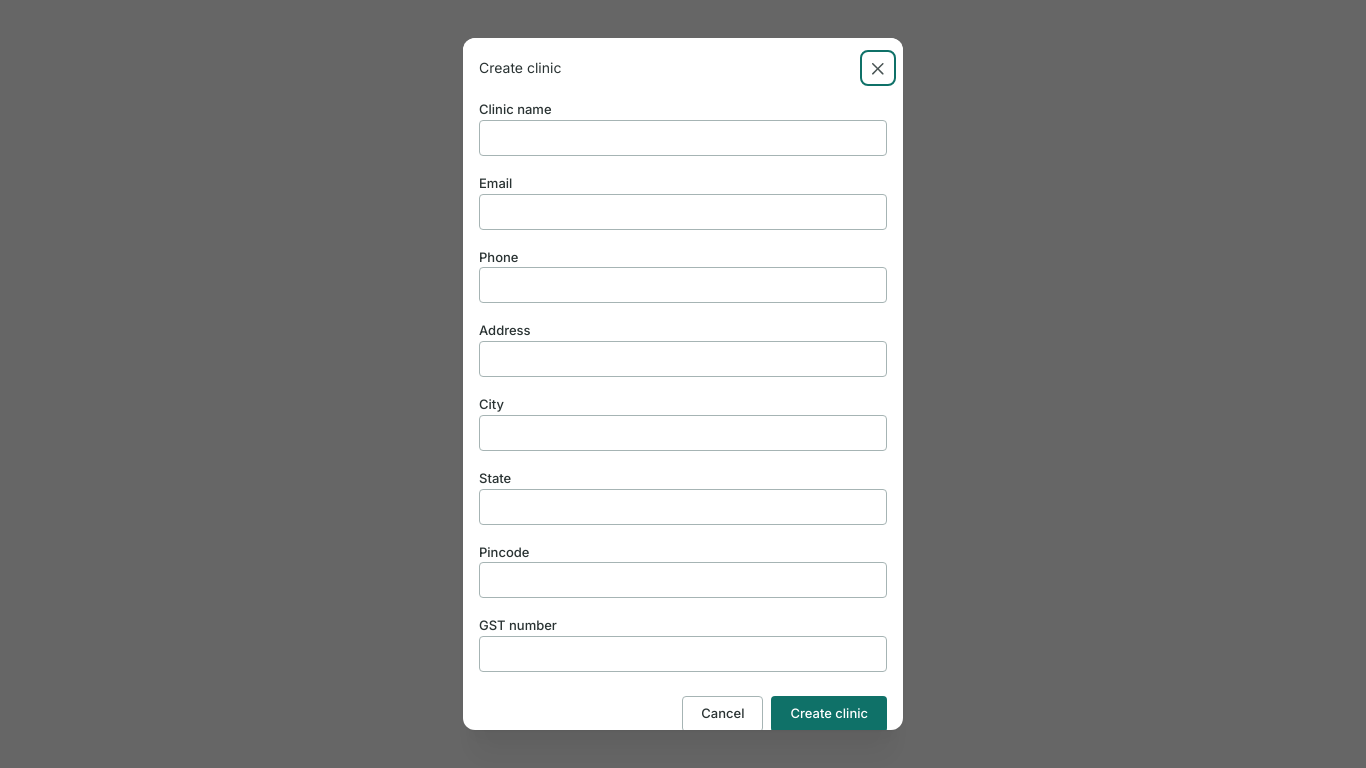
Test: ClinicFormDialog › shows the Owner limit-enforcement copy and keeps input intact
The width and height of the screenshot is (1366, 768).
Type "North Clinic" into the field labelled "Clinic name" at {"x": 683, "y": 138}, box [479,120,887,156]
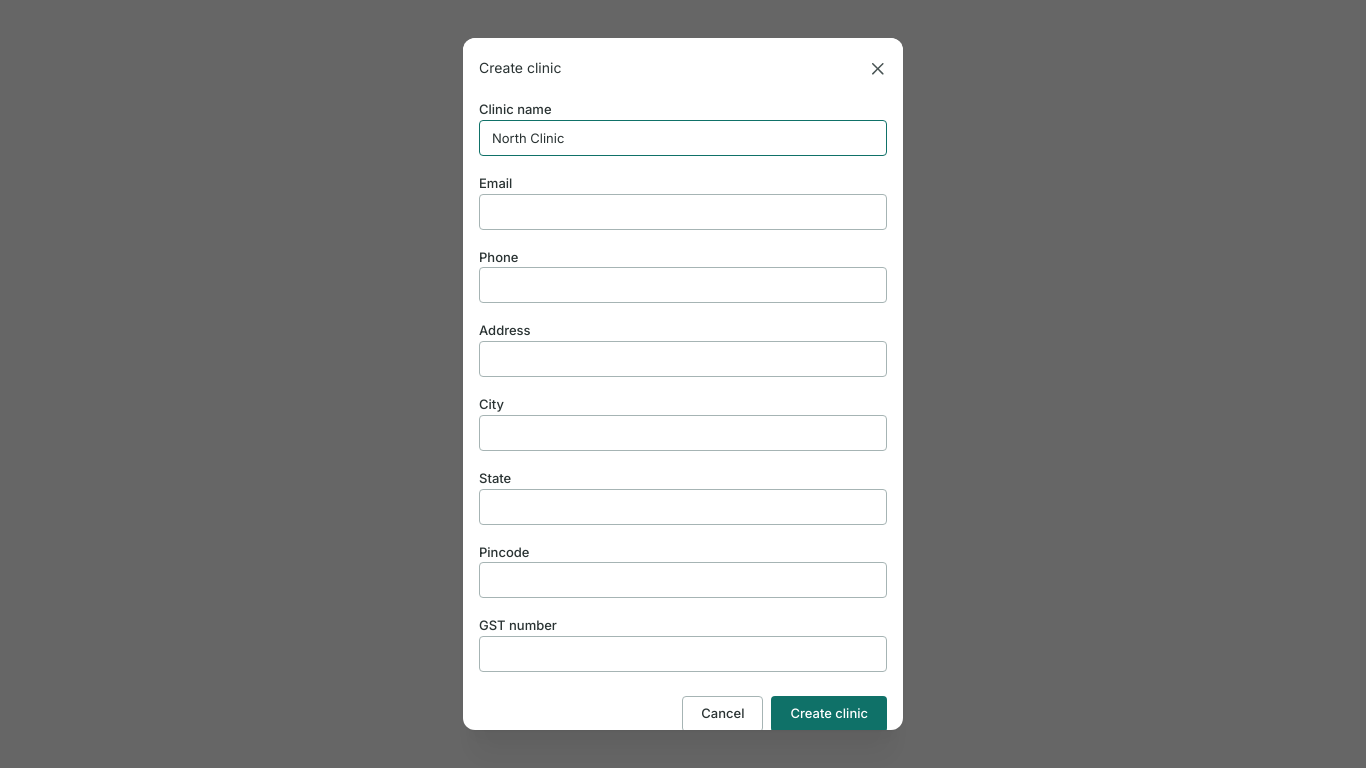
Click the button "Create clinic" at {"x": 829, "y": 714}, box [772,696,887,732]
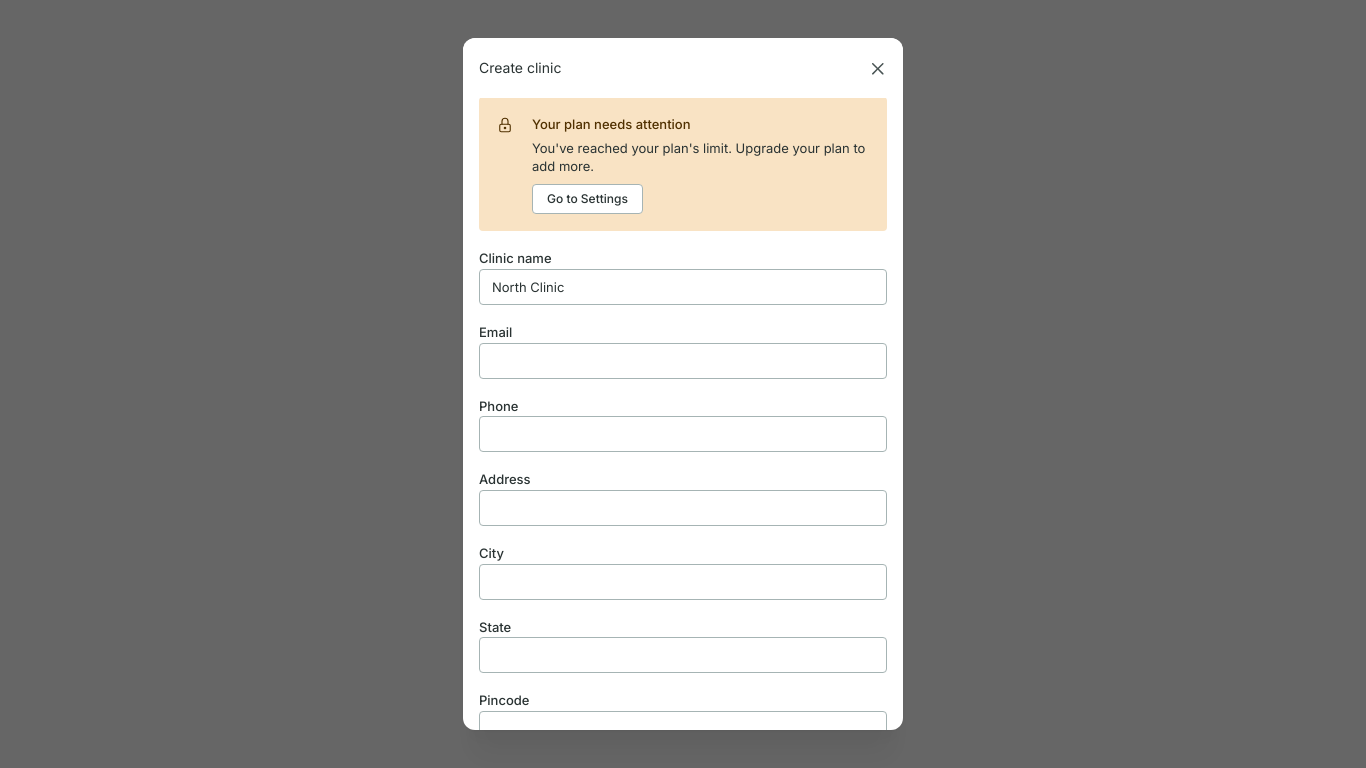
Expected: the text "You've reached your plan's limit. Upgrade your plan to add more." is shown, [532,138,870,176]
Expected: the link "Go to Settings" is shown, [532,184,643,214]
